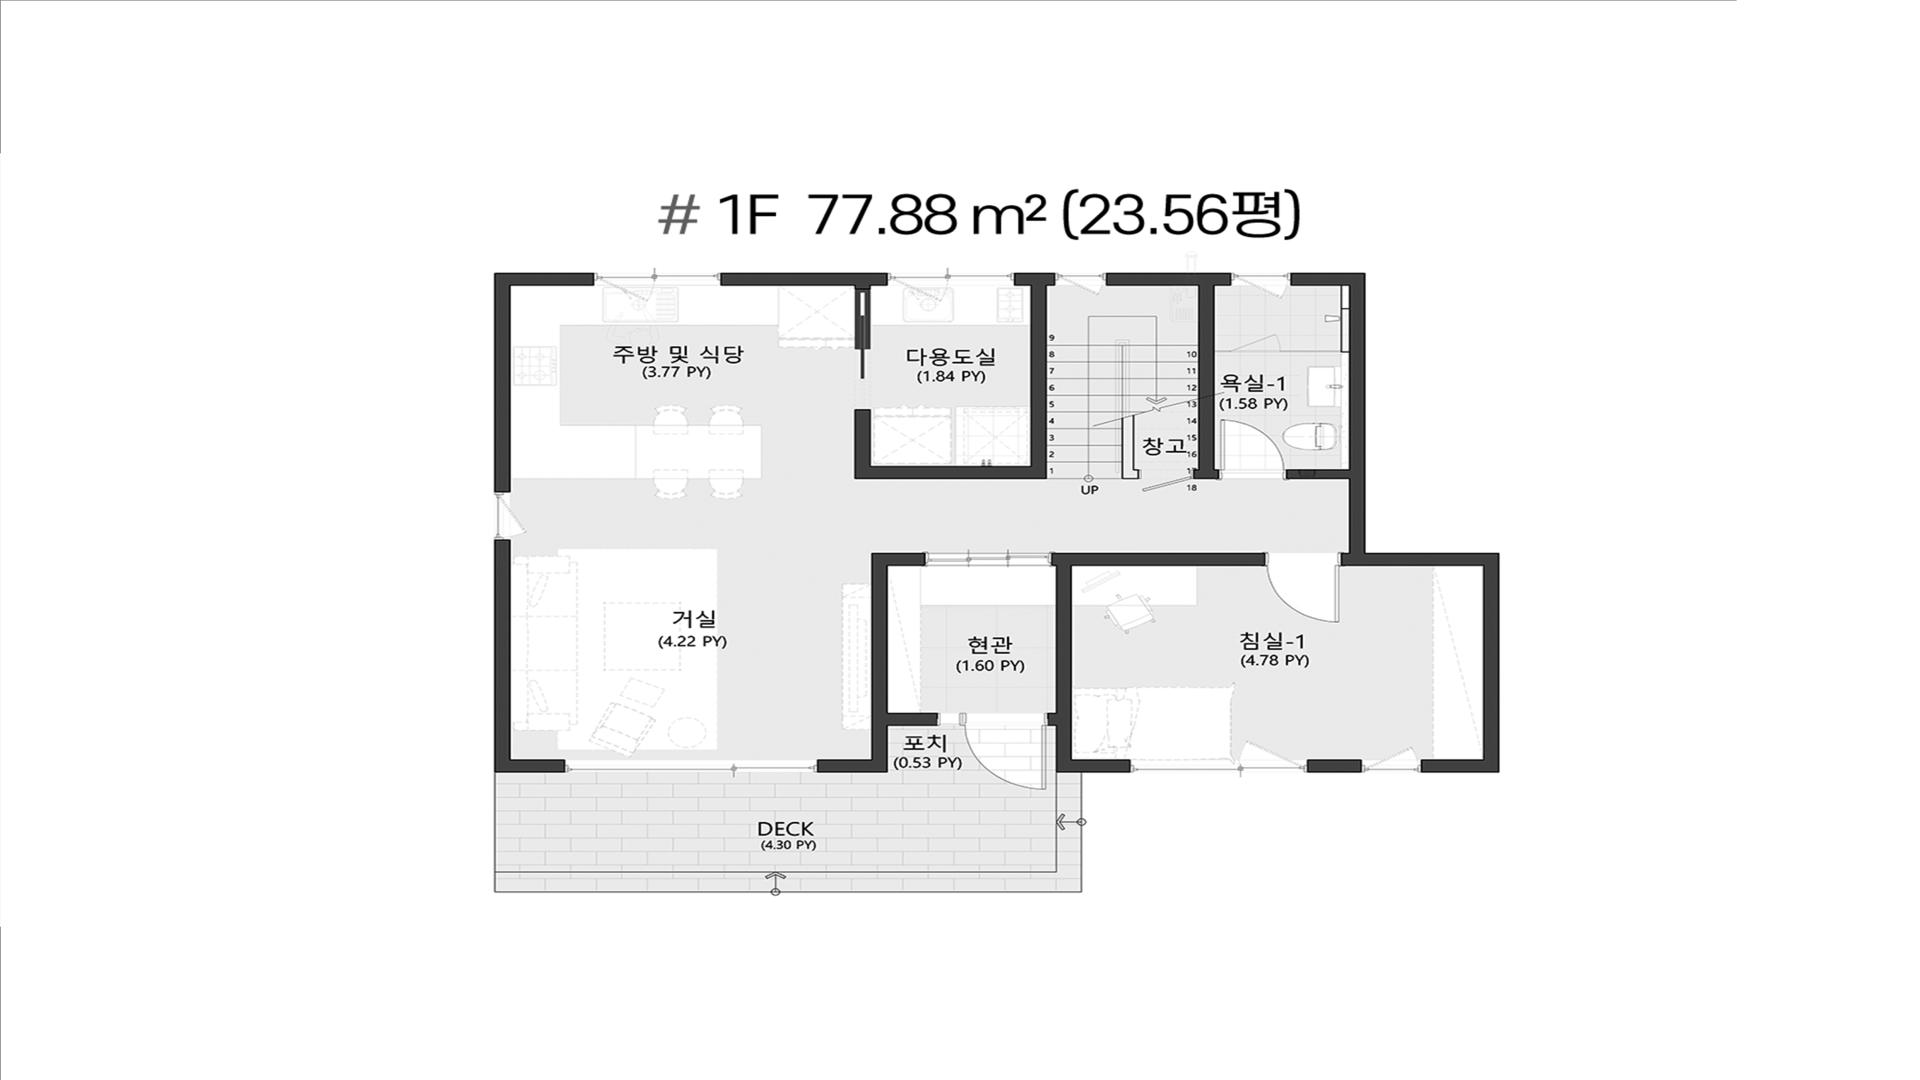door: (963, 713, 1050, 790), (1265, 553, 1344, 622), (1218, 419, 1287, 479), (855, 290, 872, 410), (926, 553, 1052, 566), (1139, 469, 1193, 492), (1229, 334, 1282, 352)
wall: (1349, 286, 1366, 553), (495, 539, 512, 760), (493, 285, 510, 492), (1484, 566, 1499, 760), (1199, 285, 1215, 469), (1031, 286, 1047, 465), (1052, 553, 1265, 566), (1056, 566, 1072, 713), (872, 465, 1047, 479), (872, 567, 887, 712), (720, 273, 887, 285), (1349, 553, 1499, 566), (1106, 273, 1232, 286), (855, 410, 872, 479), (495, 273, 593, 285), (1121, 415, 1139, 479), (495, 758, 566, 773), (1422, 760, 1499, 773), (1291, 273, 1366, 286), (818, 760, 887, 773), (870, 712, 887, 760), (872, 553, 926, 567), (1072, 760, 1130, 773), (1056, 725, 1072, 773), (1307, 760, 1362, 773), (887, 712, 938, 725), (1286, 469, 1349, 479), (1014, 273, 1055, 286), (1047, 712, 1072, 725), (1282, 349, 1349, 353), (1193, 469, 1220, 479), (856, 285, 870, 290), (1215, 351, 1229, 352)
window: (564, 760, 818, 773), (1238, 740, 1308, 773), (887, 272, 949, 302), (593, 273, 655, 302), (493, 492, 527, 539), (1230, 273, 1291, 299), (1362, 746, 1422, 773), (1130, 760, 1238, 773), (1055, 273, 1106, 295), (948, 272, 1014, 286), (655, 273, 721, 286), (938, 713, 963, 725)
